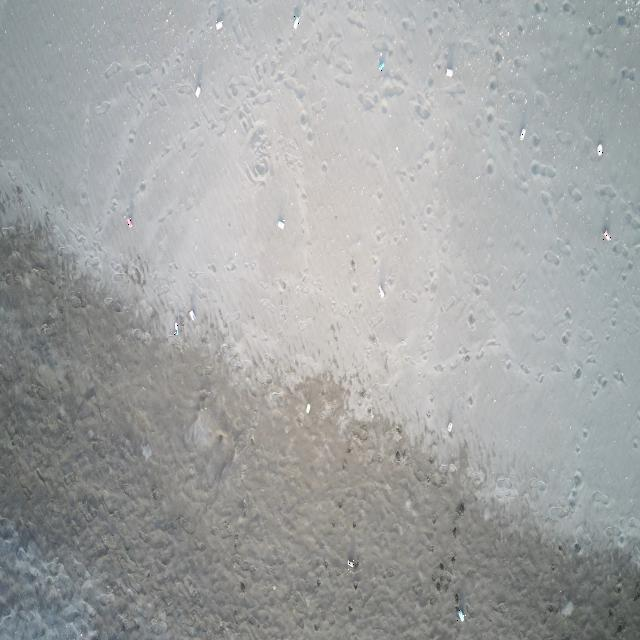Garbage: (455, 592, 464, 620), (140, 444, 151, 459), (377, 52, 384, 71), (602, 228, 611, 240), (456, 607, 464, 620), (377, 284, 384, 298), (292, 15, 299, 28), (444, 65, 452, 76), (187, 308, 194, 320), (276, 216, 283, 228), (347, 559, 357, 567), (596, 143, 602, 156), (173, 322, 179, 335), (125, 216, 131, 227), (195, 84, 200, 96), (447, 421, 452, 432), (520, 127, 524, 140), (216, 20, 221, 30), (304, 404, 310, 412), (347, 559, 353, 567)
